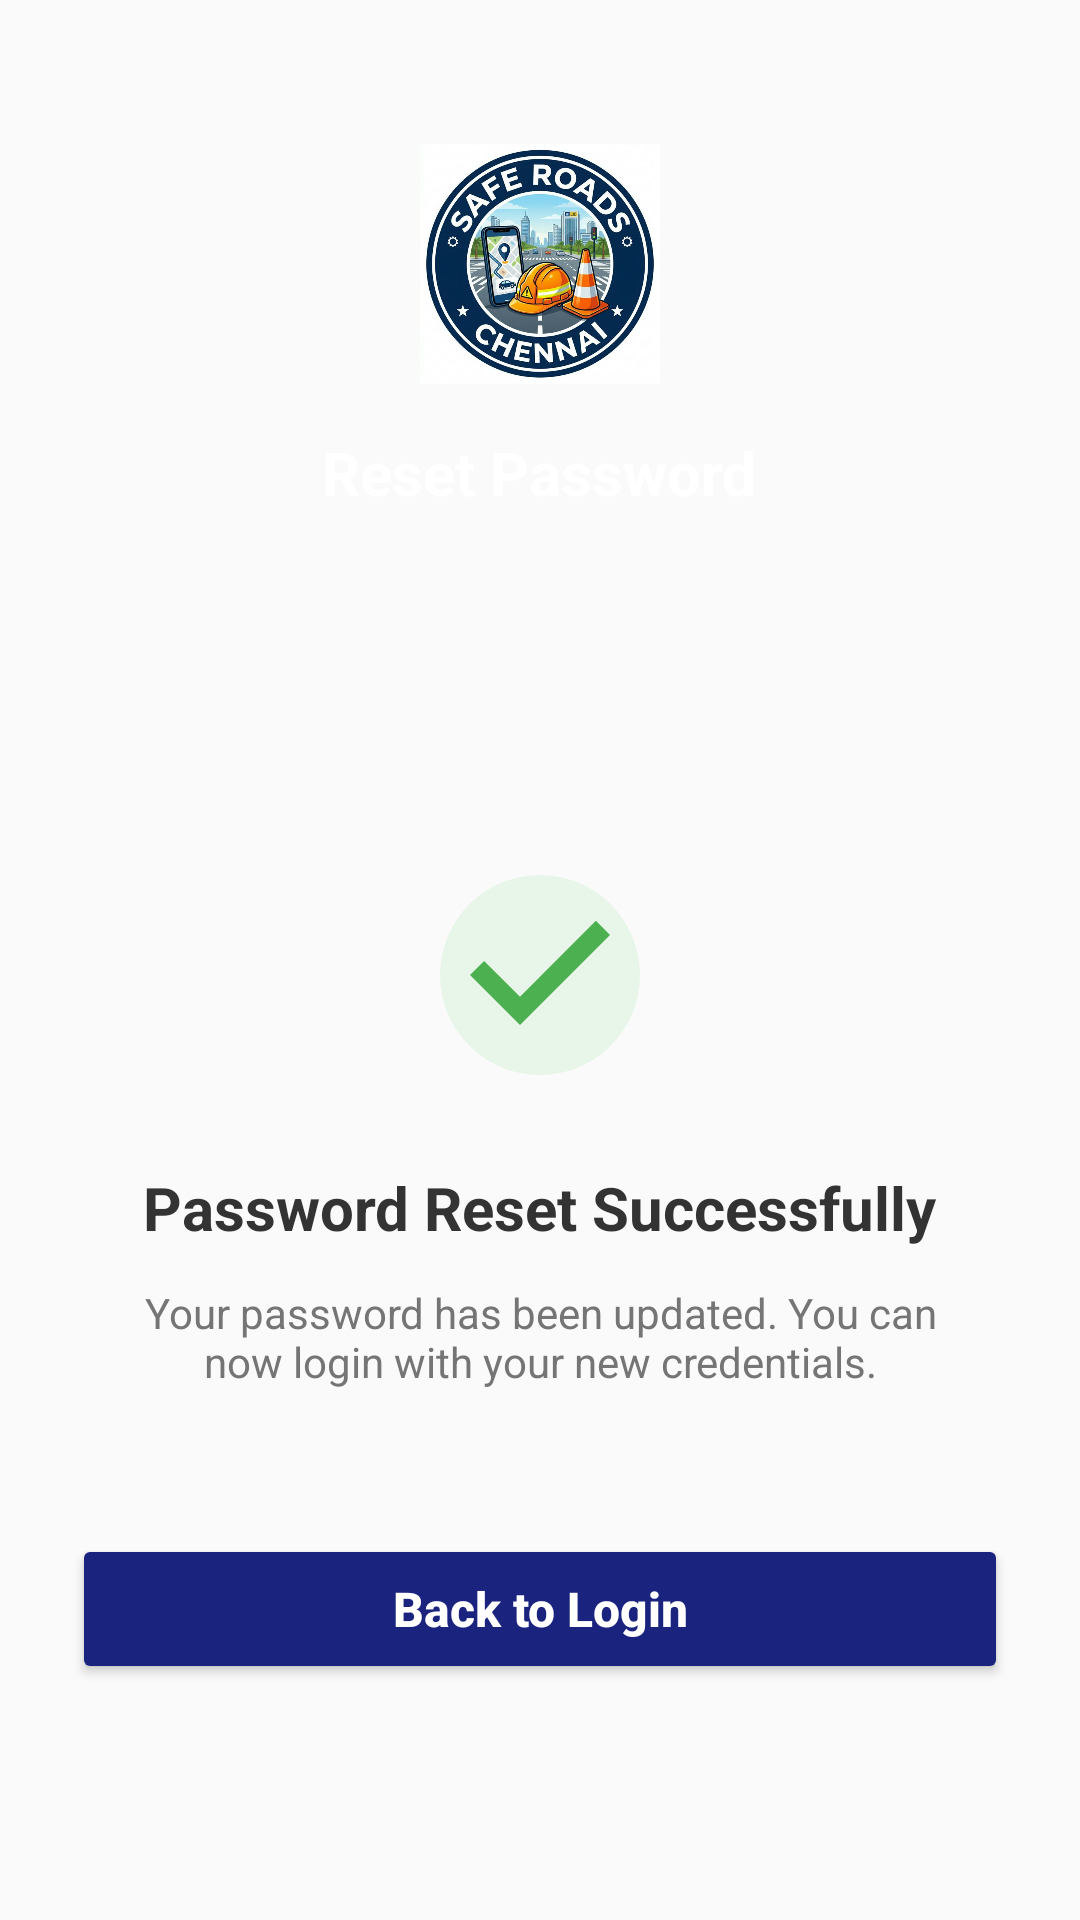

Icons on this 1080x1920 Android screen, each with its box as bbox(x1, y1, x2, y2):
check circle: bbox(440, 875, 640, 1075)
